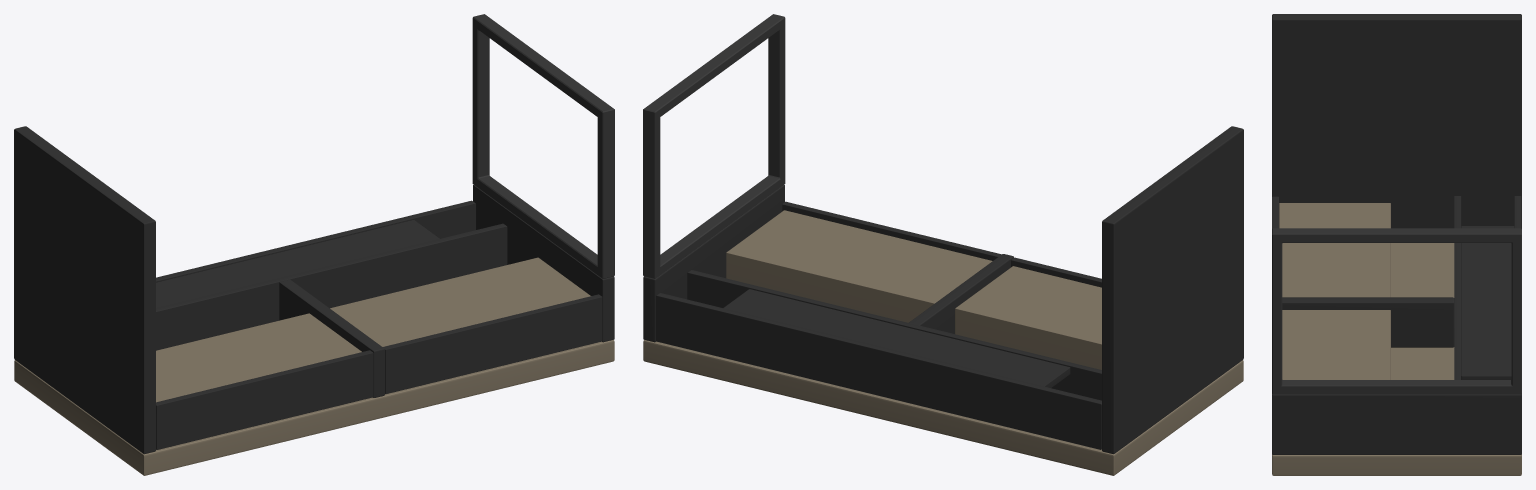
File: prp_desk_01_upsidedown.fbx
The picture shows the model from 3 angles, left to right: view 1: azimuth 30°, elevation 25°; view 2: azimuth 150°, elevation 25°; view 3: azimuth 270°, elevation 25°; orthographic projection. The views are drawn at different scales.
Visible parts, largest first — view 1: PRP_Desk_01_Leg_02_Mesh, PRP_Desk_01_Supports_Mesh, PRP_Desk_01_Drawer_02_Mesh, PRP_Desk_01_Drawer_01_Mesh, PRP_Desk_01_Leg_01_Mesh, PRP_Desk_01_Top_Mesh; view 2: PRP_Desk_01_Supports_Mesh, PRP_Desk_01_Leg_02_Mesh, PRP_Desk_01_Drawer_02_Mesh, PRP_Desk_01_Leg_01_Mesh, PRP_Desk_01_Top_Mesh, PRP_Desk_01_Drawer_01_Mesh; view 3: PRP_Desk_01_Leg_02_Mesh, PRP_Desk_01_Leg_01_Mesh, PRP_Desk_01_Supports_Mesh, PRP_Desk_01_Top_Mesh, PRP_Desk_01_Drawer_01_Mesh, PRP_Desk_01_Drawer_02_Mesh.
Part boxes in pixels (x1,y1,x2,y2): PRP_Desk_01_Leg_02_Mesh: (14, 126, 155, 454); PRP_Desk_01_Supports_Mesh: (156, 200, 507, 397); PRP_Desk_01_Drawer_02_Mesh: (330, 257, 602, 394); PRP_Desk_01_Drawer_01_Mesh: (156, 313, 373, 449); PRP_Desk_01_Leg_01_Mesh: (472, 14, 614, 342); PRP_Desk_01_Top_Mesh: (14, 340, 614, 475); PRP_Desk_01_Supports_Mesh: (655, 254, 1101, 449); PRP_Desk_01_Leg_02_Mesh: (1102, 126, 1243, 454); PRP_Desk_01_Drawer_02_Mesh: (726, 201, 1001, 322); PRP_Desk_01_Leg_01_Mesh: (643, 14, 785, 342); PRP_Desk_01_Top_Mesh: (643, 340, 1243, 475); PRP_Desk_01_Drawer_01_Mesh: (955, 257, 1101, 369); PRP_Desk_01_Leg_02_Mesh: (1272, 14, 1521, 228); PRP_Desk_01_Leg_01_Mesh: (1272, 228, 1521, 454); PRP_Desk_01_Supports_Mesh: (1282, 196, 1521, 379); PRP_Desk_01_Top_Mesh: (1272, 243, 1521, 475); PRP_Desk_01_Drawer_01_Mesh: (1272, 196, 1390, 297); PRP_Desk_01_Drawer_02_Mesh: (1282, 310, 1390, 379).
Bounding box in the file's own units: 257 × 132 × 123.
